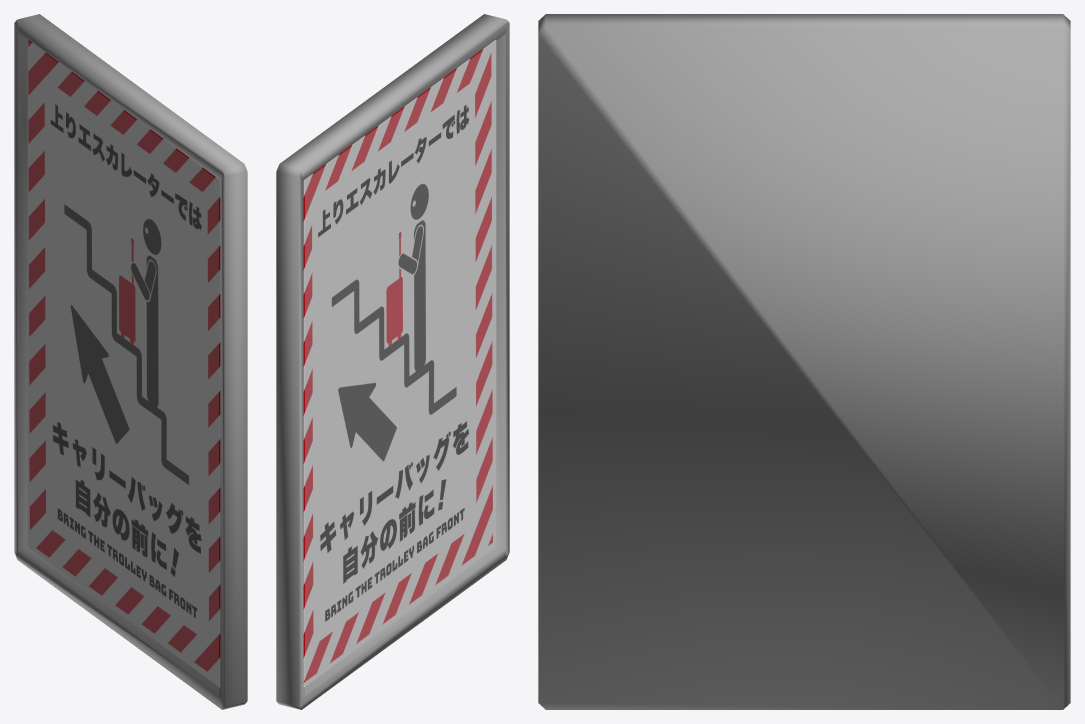
File: poster_eskare.fbx
The picture shows the model from 3 angles, left to right: view 1: azimuth 30°, elevation 25°; view 2: azimuth 150°, elevation 25°; view 3: azimuth 270°, elevation 25°; orthographic projection. The views are drawn at different scales.
Visible parts, largest first — view 1: frame, poster_eskare; view 2: frame, poster_eskare; view 3: frame.
Part boxes in pixels (box(x1,y1,x2,y2)): frame: box(14, 14, 247, 709); poster_eskare: box(27, 39, 220, 687); frame: box(276, 14, 509, 709); poster_eskare: box(303, 39, 496, 687); frame: box(538, 14, 1070, 709).
Bounding box in the file's own units: 27.18 × 594 × 420.
3 materials, 1 textured.
